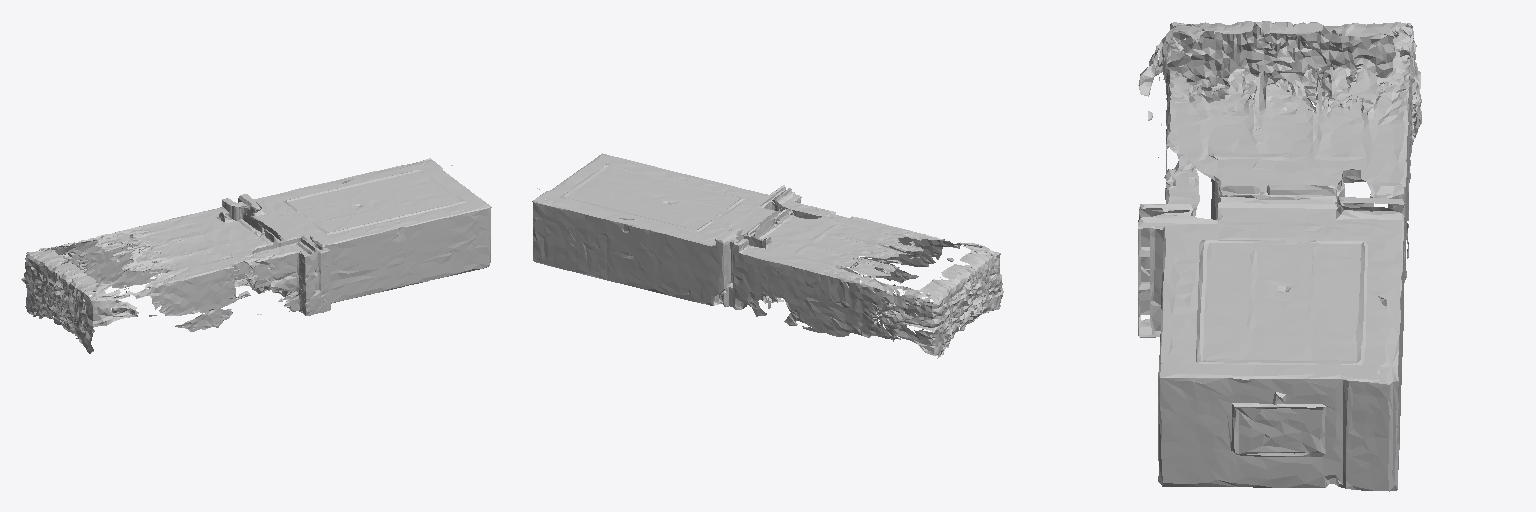
robot.urdf — static_scene:
<?xml version="1.0"?>
<robot name="static_scene">
  <link name="base_link">
    <inertial>
      <origin xyz="0 0 0"/>
      <mass value="0"/>
      <inertia ixx="0" ixy="0" ixz="0" iyy="0" iyz="0" izz="0"/>
    </inertial>
    <visual>
      <origin xyz="0 0 0" rpy="0 0 0"/>
      <geometry>
        <mesh filename="meshes/scene_01.obj" scale="1 1 1"/>
      </geometry>
      <material name="default">
        <color rgba="0.8 0.8 0.8 1"/>
      </material>
    </visual>
    <collision>
      <origin xyz="0 0 0" rpy="0 0 0"/>
      <geometry>
        <mesh filename="meshes/scene_01.obj" scale="1 1 1"/>
      </geometry>
    </collision>
  </link>
</robot>

--- Facts derived from the render (not from the file) ---
The picture shows the robot from 3 angles, left to right: view 1: azimuth 30°, elevation 25°; view 2: azimuth 150°, elevation 25°; view 3: azimuth 270°, elevation 25°; orthographic projection.
Model static_scene with 1 links and 0 joints (none), rooted at base_link, posed every joint at zero.
Links seen in each view (by area): view 1: base_link; view 2: base_link; view 3: base_link.
Boxes of the visible links, x1,y1,x2,y2 form: base_link: [21, 158, 491, 353]; base_link: [532, 153, 1003, 358]; base_link: [1138, 21, 1421, 491].
Bounding box of the posed robot: 19.23 × 6.25 × 3.1 m (x, y, z).
1 mesh visuals loaded from 1 distinct referenced files (1 OBJ).